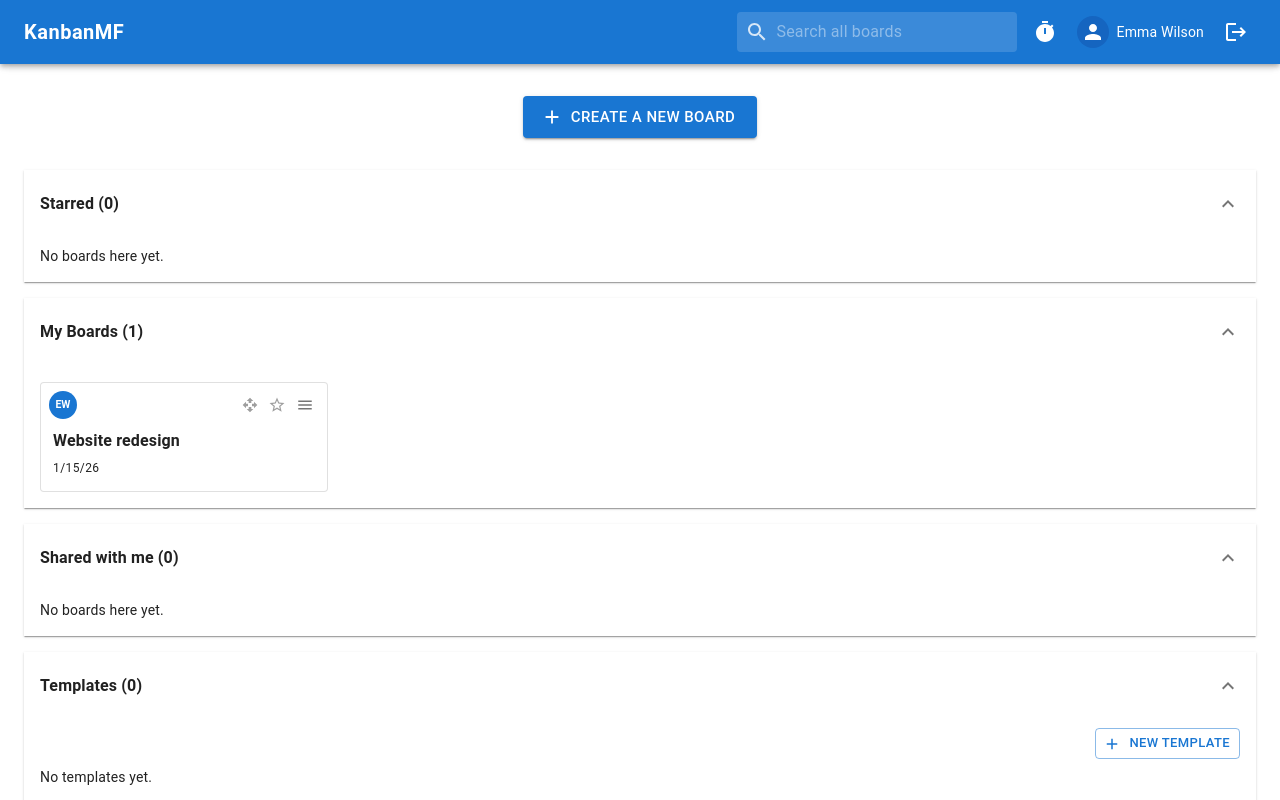
Test: Boards › creating › closes the dialog of New Template with Cancel, creating nothing
Click the button "New Template" at {"x": 1168, "y": 744}, box x1=1095 y1=728 x2=1240 y2=759
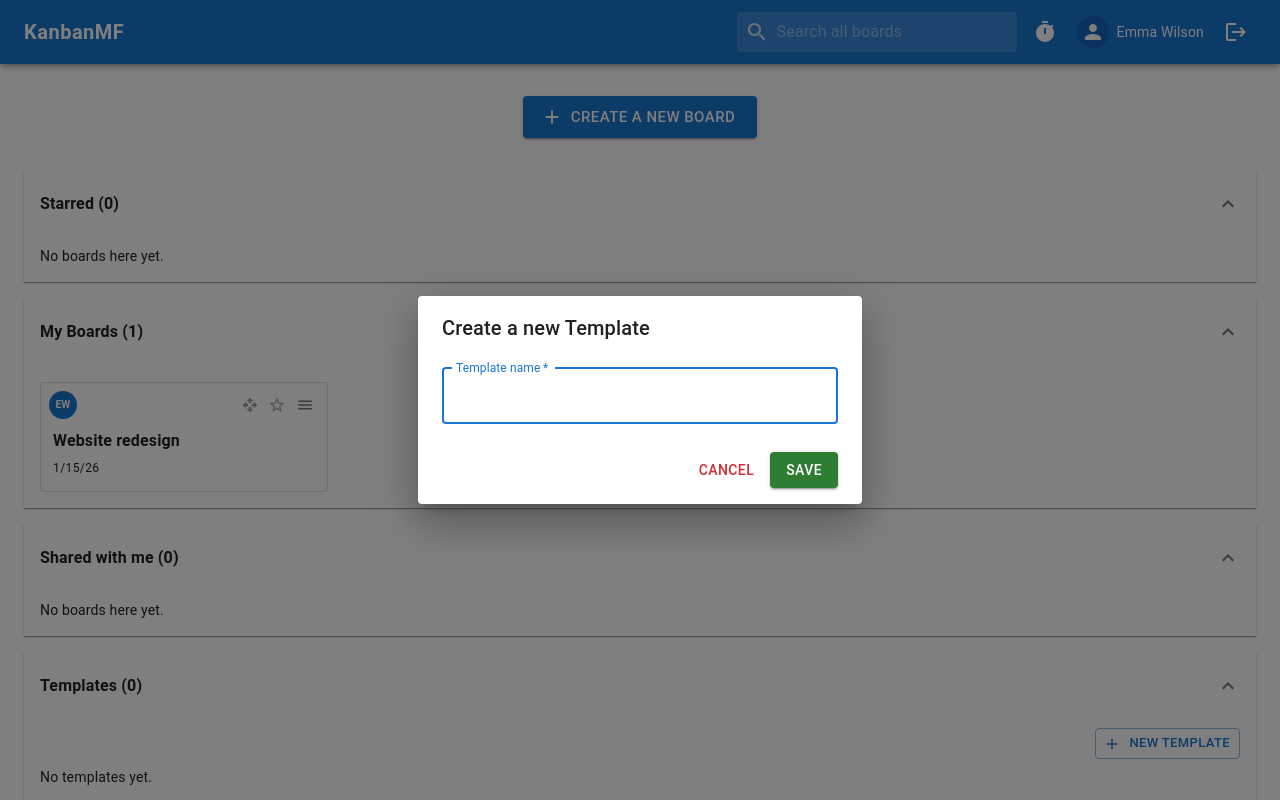
Click the button "Cancel" at {"x": 726, "y": 470}, box x1=691 y1=452 x2=762 y2=488
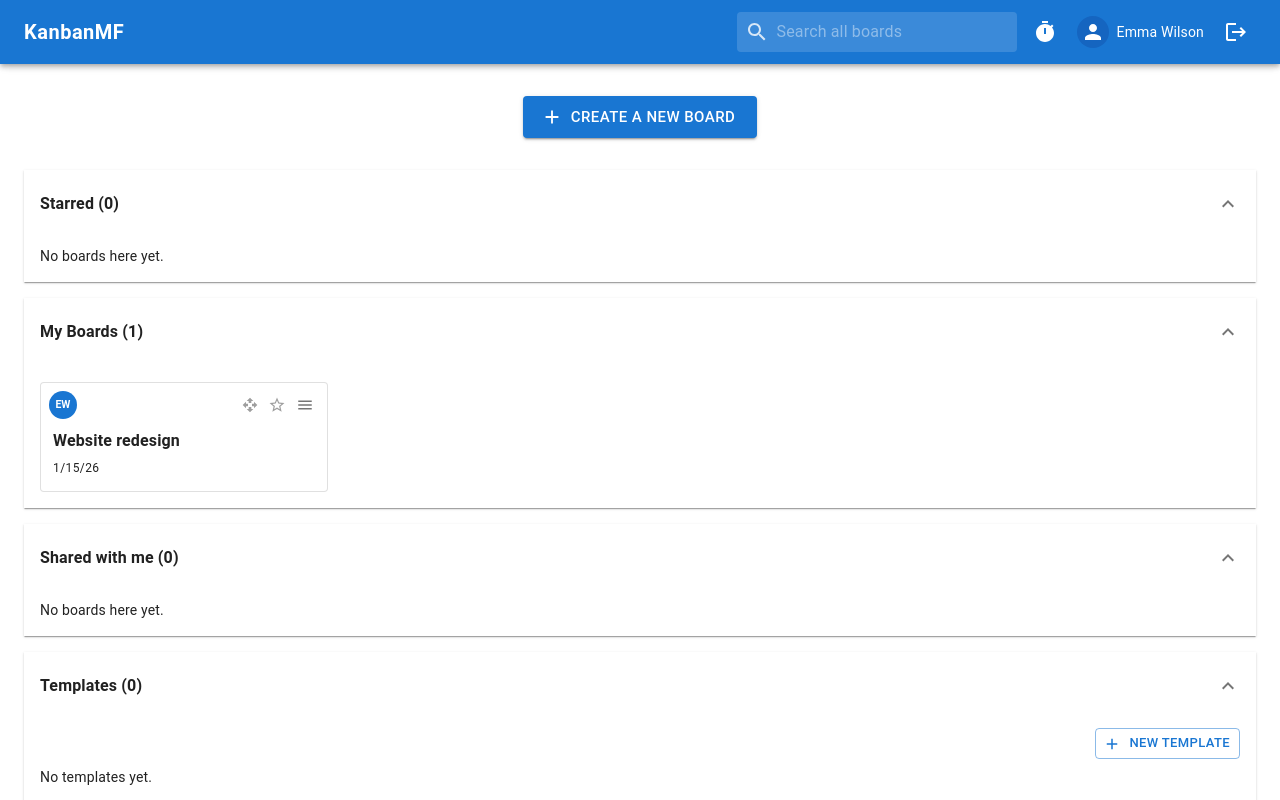
Check: the dialog is gone
